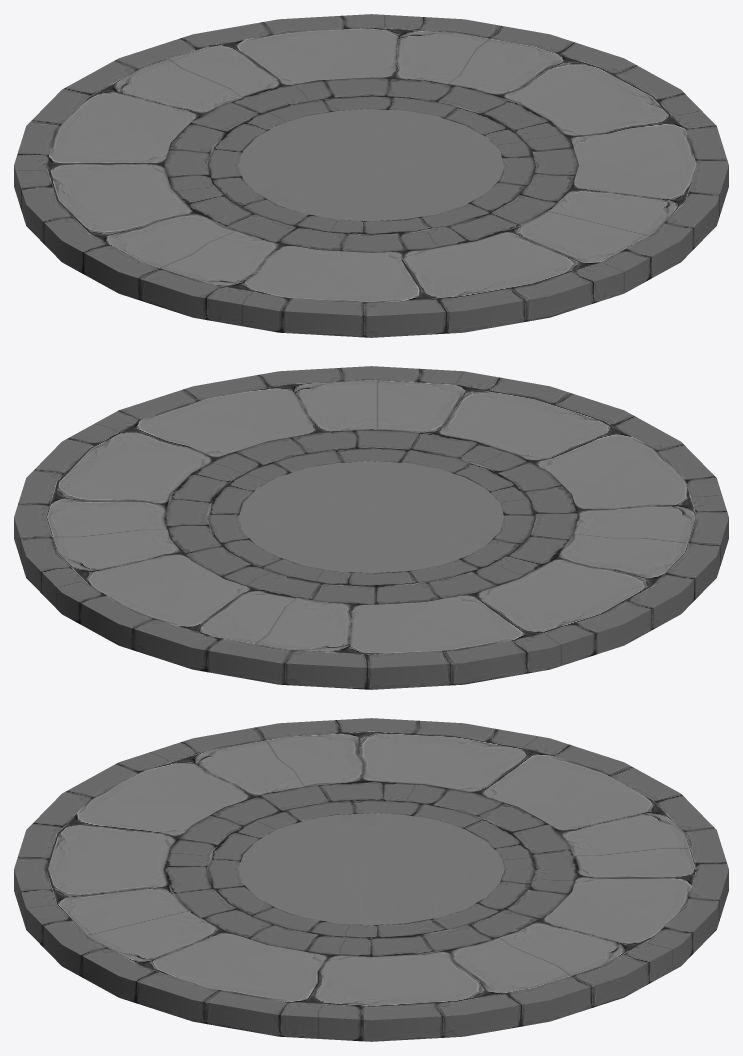
Rendered from Portal_base.FBX.
The picture shows the model from 3 angles, top to bottom: view 1: azimuth 30°, elevation 25°; view 2: azimuth 150°, elevation 25°; view 3: azimuth 270°, elevation 25°; orthographic projection.
Visible parts, largest first — view 1: Cylinder003; view 2: Cylinder003; view 3: Cylinder003.
Part boxes in pixels (x1,y1,x2,y2): Cylinder003: (14, 14, 728, 337); Cylinder003: (14, 366, 728, 689); Cylinder003: (14, 718, 728, 1041).
Size of the model in its own units: 18 by 0.6 by 18.
